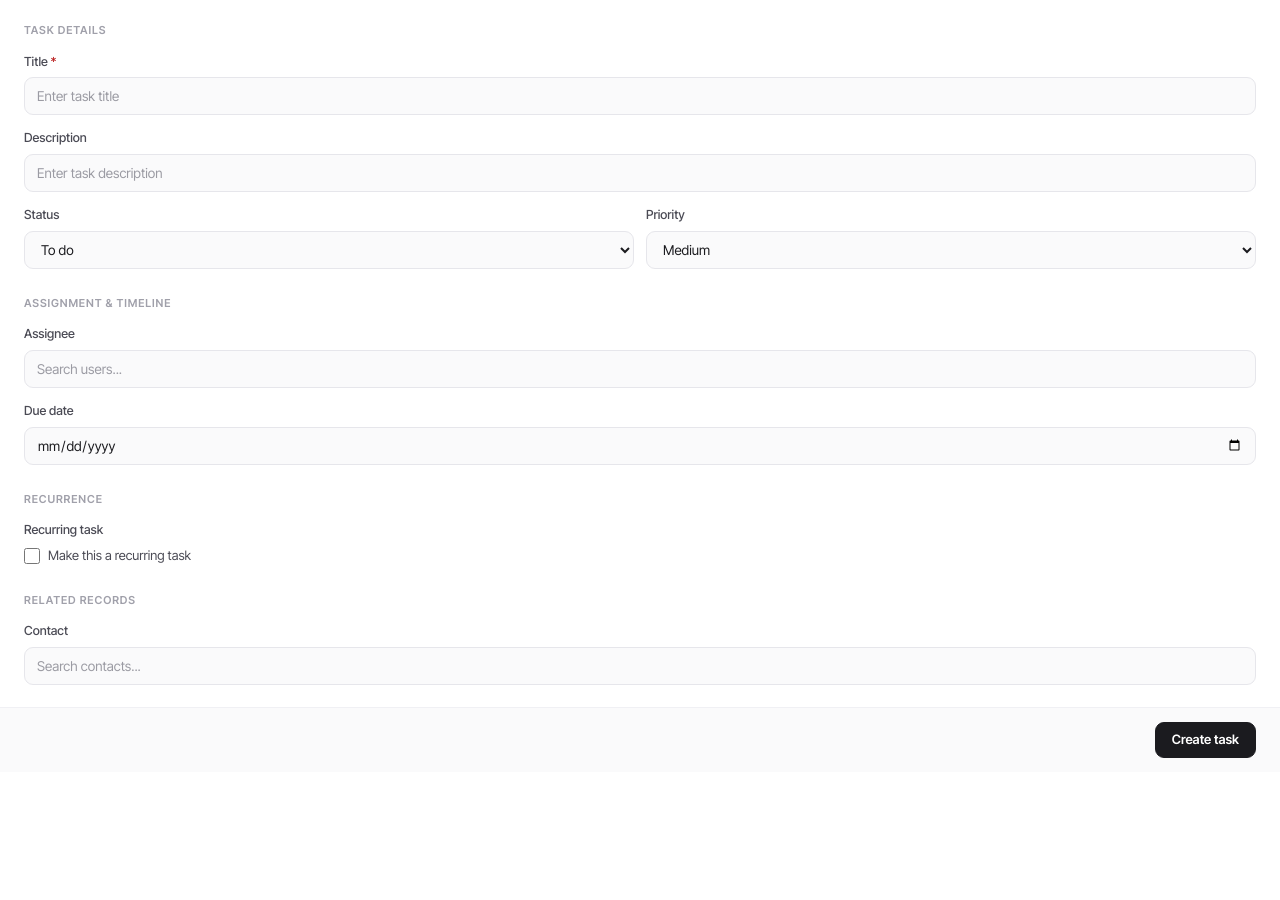
Test: TaskForm › shows required-title validation and does not create a task
Click the button "Create task" at (1205, 740), box [1155, 722, 1256, 758]
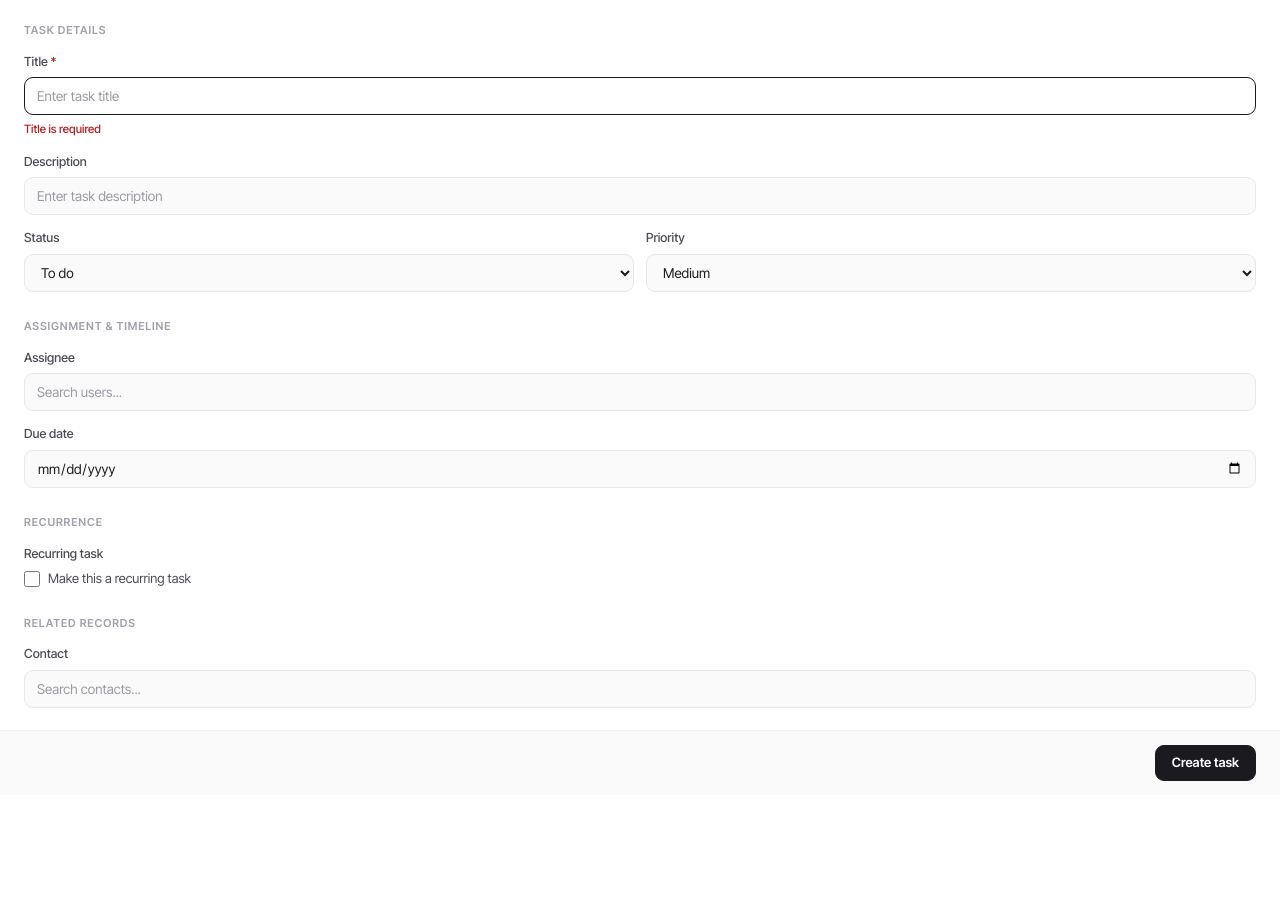
expect the text "Title is required" is shown: met, box [24, 122, 101, 136]
